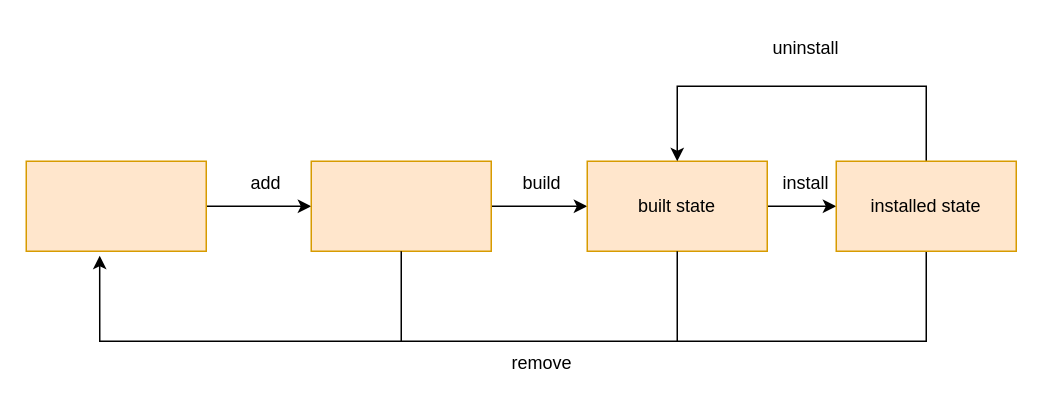
Image size: 1043x411. Some labels were removed from this diagram. The shapes that lost their labels are listed below. From the top down, each one's centre as x and y in pixels, then its label:
the point at 115,205: not in tree
the point at 400,205: added state
